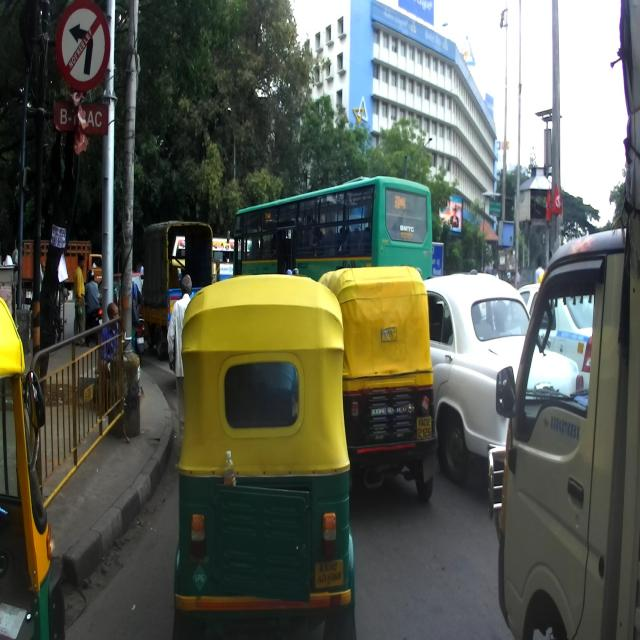autorickshaw: (170, 272, 356, 640), (317, 264, 439, 502), (0, 296, 66, 639)
bus: (233, 175, 433, 278)
car_Ambassador: (419, 274, 583, 486)
truck: (486, 2, 640, 639)
